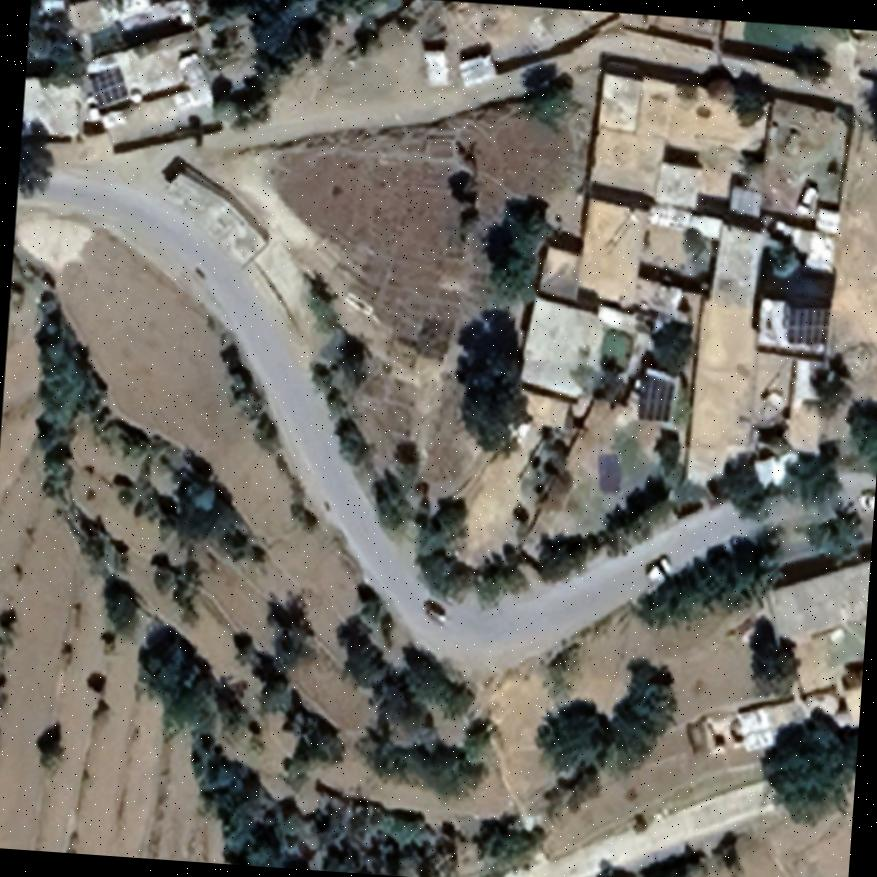Solarpanel: (778, 299, 832, 350), (629, 370, 678, 426), (81, 60, 130, 110)
